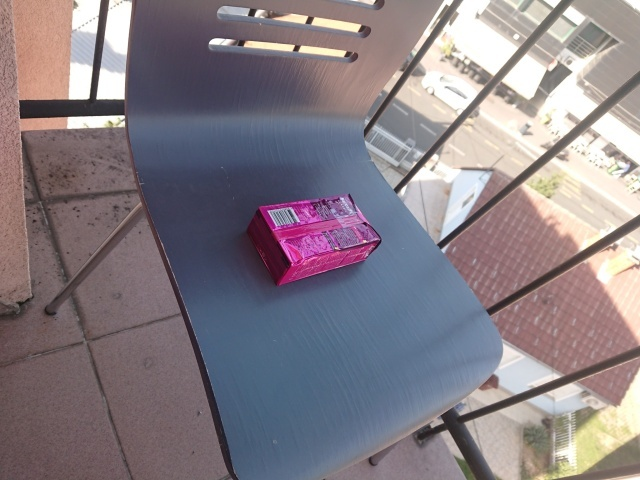Barcaffe Classic Original 225g: (244, 192, 384, 288)
